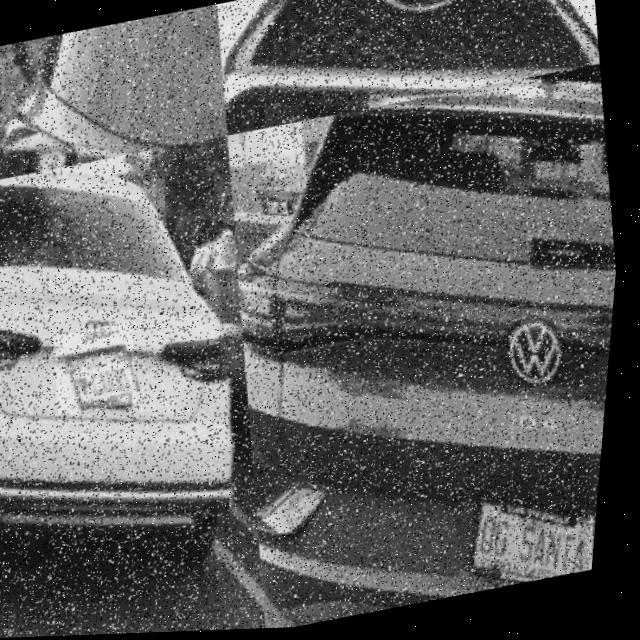LicensePlate: (470, 493, 601, 585), (53, 323, 150, 419)
